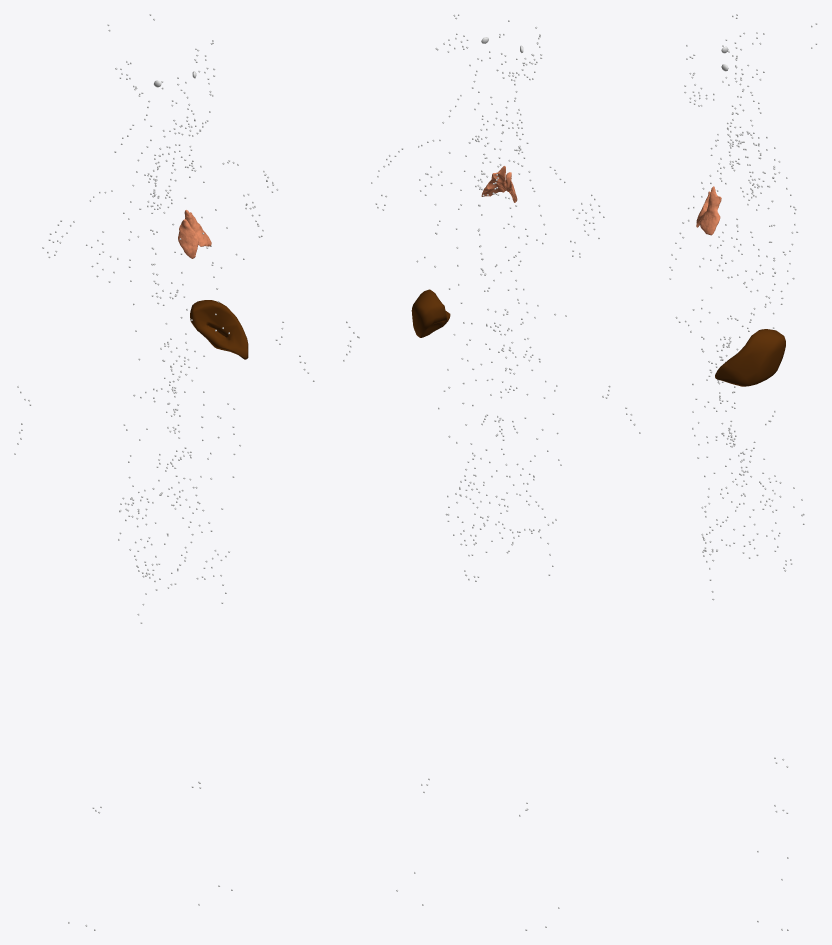
The model's file is lymphoid-organs.glb.
The picture shows the model from 3 angles, left to right: view 1: azimuth 30°, elevation 25°; view 2: azimuth 150°, elevation 25°; view 3: azimuth 270°, elevation 25°; orthographic projection.
Visible parts, largest first — view 1: object 2, object 1; view 2: object 2, object 1; view 3: object 2, object 1.
Boxes of the visible parts, bbox=[...] form: object 2: bbox=[178, 210, 248, 359]; object 1: bbox=[86, 144, 244, 577]; object 2: bbox=[411, 166, 517, 337]; object 1: bbox=[416, 119, 566, 581]; object 2: bbox=[696, 186, 785, 386]; object 1: bbox=[675, 126, 798, 571].
Bounding box in the file's own units: 0.4522 × 1.28 × 0.1962.
